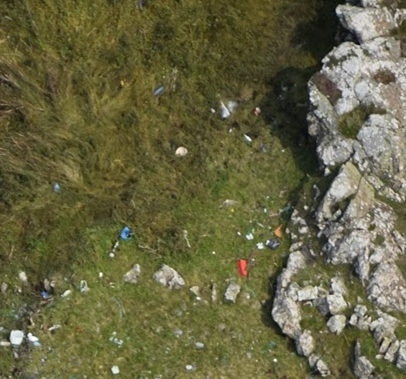scattered_barrel: (148, 80, 270, 162), (231, 198, 300, 283)
white_in_green: (99, 205, 151, 254), (1, 316, 40, 360), (34, 166, 74, 203)
